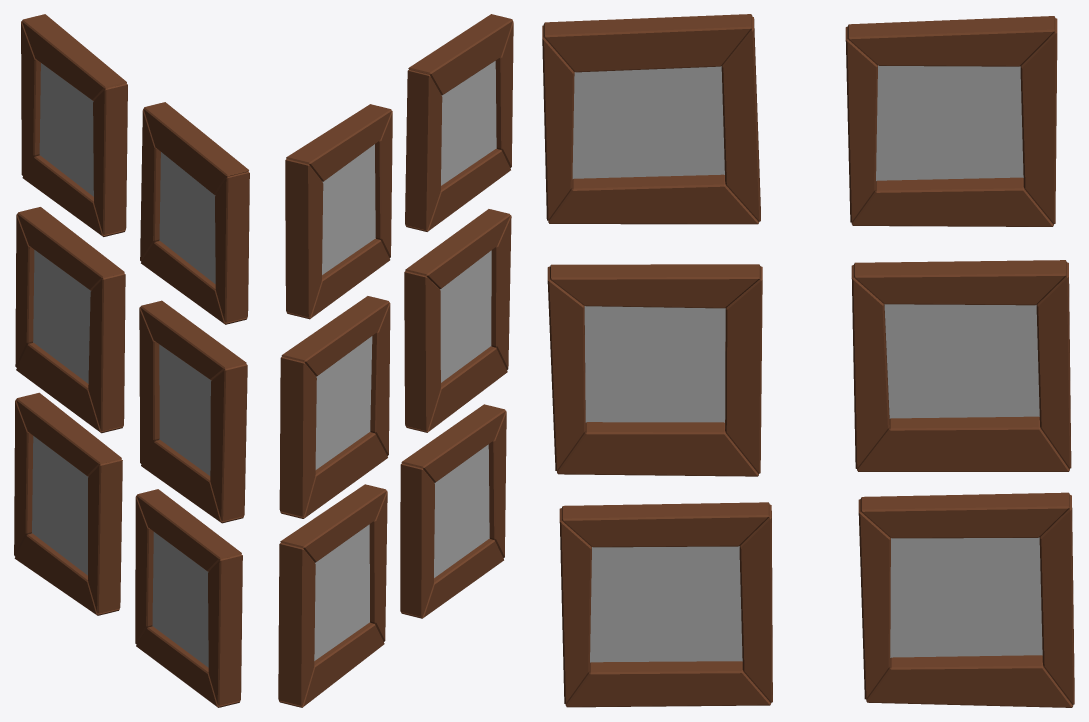
The model's file is Photo_Frame_01.glb.
3 views of the same model, side by side, from view 1: azimuth 30°, elevation 25°; view 2: azimuth 150°, elevation 25°; view 3: azimuth 270°, elevation 25° (orthographic). The views are drawn at different scales.
Visible parts, largest first — view 1: Picture6; view 2: Picture6; view 3: Picture6.
Part boxes in pixels (bbox=[...]): Picture6: bbox=[14, 14, 249, 707]; Picture6: bbox=[278, 14, 513, 707]; Picture6: bbox=[542, 14, 1074, 707].
Bounding box in the file's own units: 0.0461 × 0.968 × 0.6861.
